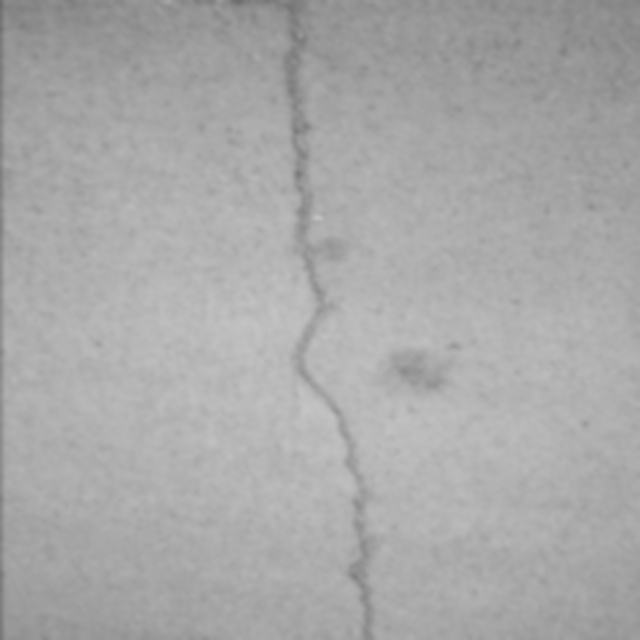SurfaceCrack: (235, 0, 408, 640)
